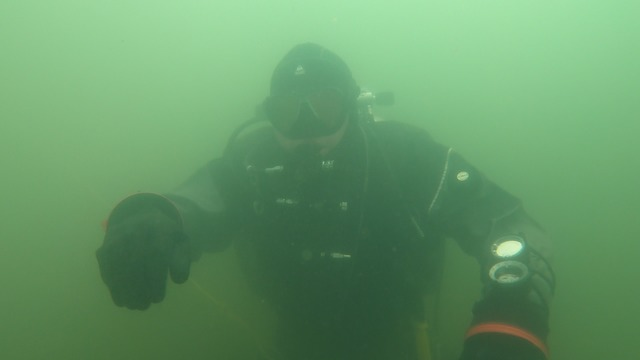Diver: (81, 24, 568, 355)
Hand: (86, 184, 215, 318)
Head: (255, 36, 376, 205)
